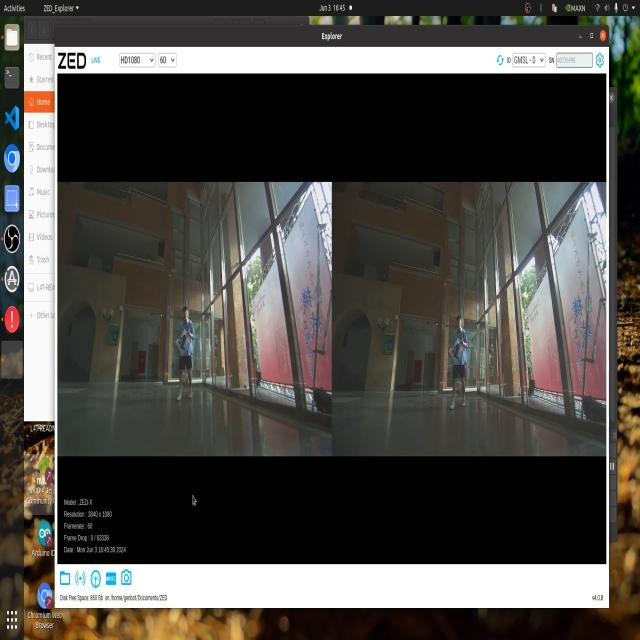blue: (177, 331, 186, 348), (454, 338, 461, 358)
